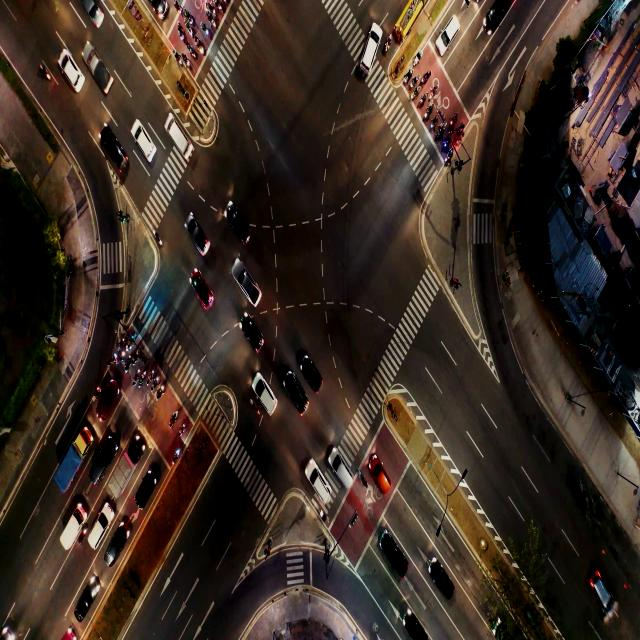bus: (400, 4, 414, 32)
car: (383, 536, 405, 577), (591, 568, 612, 610), (186, 212, 206, 252), (433, 559, 452, 598), (171, 126, 192, 161), (403, 609, 425, 639), (374, 458, 390, 497), (193, 276, 211, 310), (63, 63, 85, 90), (73, 587, 92, 617), (107, 135, 123, 170), (310, 468, 328, 498), (228, 206, 246, 236), (334, 454, 350, 486), (240, 271, 256, 302), (305, 358, 320, 391), (136, 128, 150, 160), (486, 4, 503, 29), (443, 23, 458, 50), (139, 476, 153, 504), (99, 390, 112, 418), (91, 510, 103, 539), (366, 38, 377, 69), (260, 384, 274, 408), (97, 451, 111, 475), (290, 384, 303, 408), (247, 327, 261, 349), (112, 532, 125, 554)
motorcycle: (42, 64, 52, 81), (153, 230, 164, 245), (250, 399, 259, 414), (321, 512, 331, 524), (172, 449, 182, 461), (159, 382, 169, 394), (153, 374, 161, 389), (360, 474, 368, 488), (173, 52, 181, 65), (178, 27, 184, 43), (422, 74, 430, 84), (181, 423, 188, 434), (188, 24, 193, 39), (126, 337, 132, 349), (187, 12, 193, 24), (217, 0, 223, 12), (173, 409, 178, 423), (416, 52, 422, 63), (198, 43, 204, 54), (142, 369, 147, 382), (135, 366, 140, 379), (425, 110, 432, 119), (184, 58, 191, 67), (456, 127, 462, 137), (432, 120, 438, 130), (431, 87, 437, 97), (387, 36, 391, 51), (406, 72, 412, 82), (120, 334, 125, 346), (176, 4, 182, 14), (209, 3, 215, 13), (421, 94, 426, 105), (446, 153, 452, 162), (134, 351, 140, 360), (128, 354, 132, 367), (204, 26, 209, 36), (211, 18, 216, 28), (190, 46, 194, 58), (150, 368, 155, 377), (450, 116, 454, 126), (444, 139, 448, 149), (112, 353, 116, 363), (414, 88, 418, 97), (414, 77, 418, 86), (439, 128, 444, 134), (122, 350, 125, 360), (97, 386, 100, 395)
truck: (89, 56, 109, 92), (117, 450, 132, 490), (64, 442, 82, 475), (63, 515, 80, 542)
